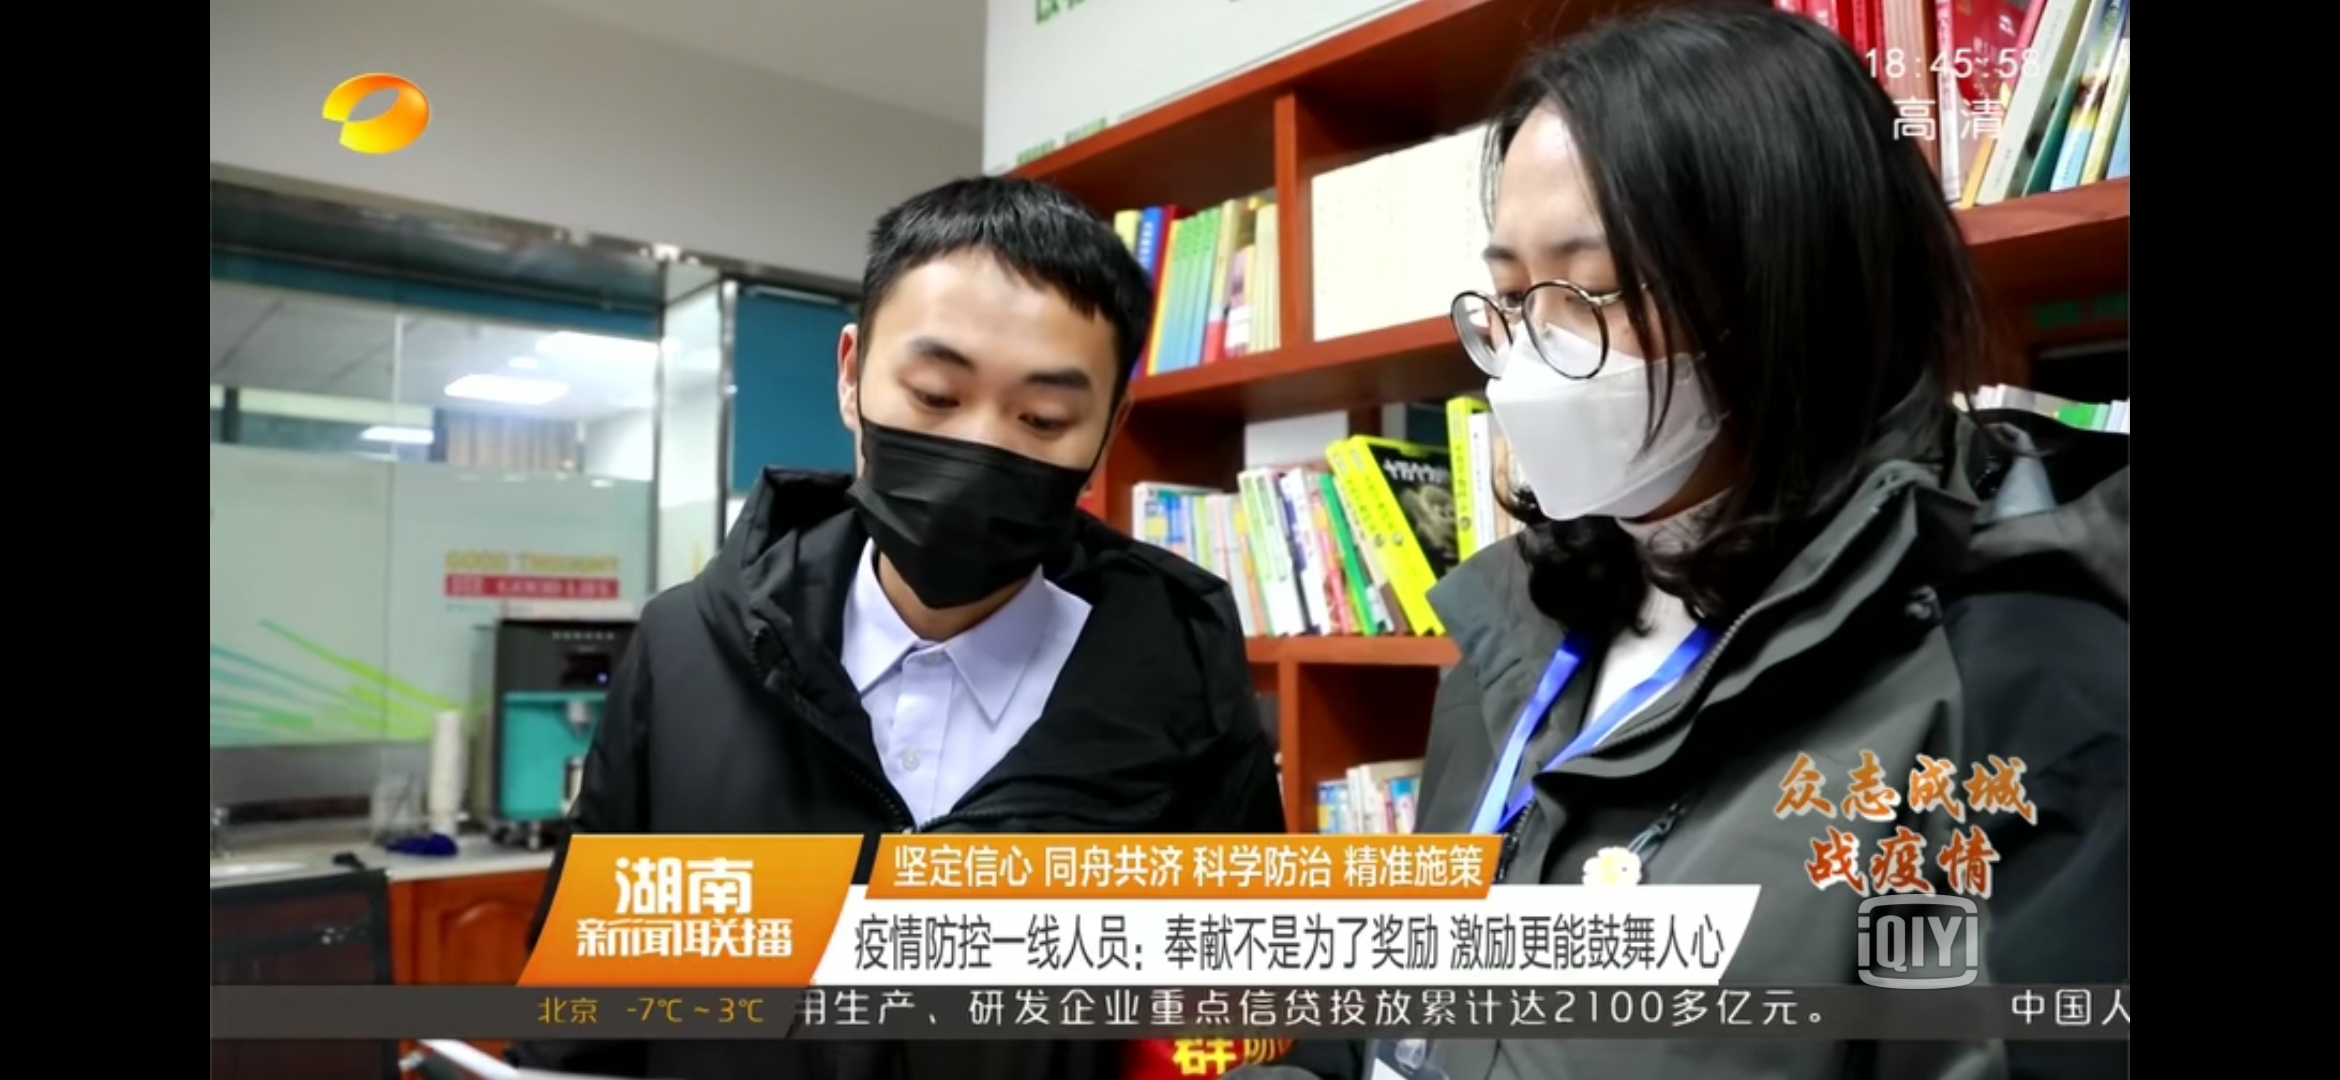correctlyWear: (1454, 180, 1736, 518), (831, 310, 1124, 607)
